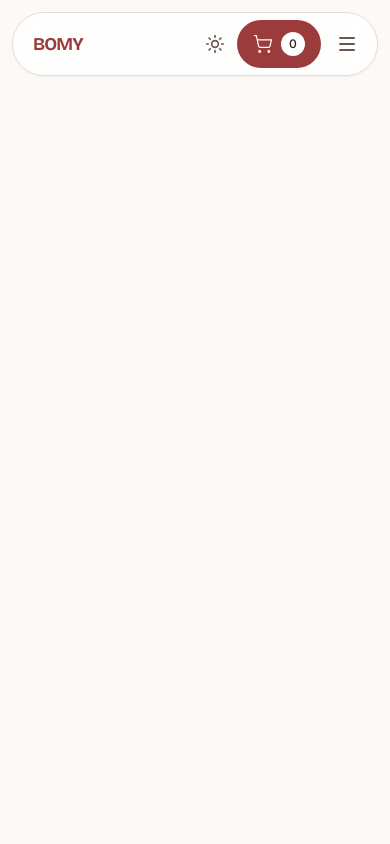
Scenario: names, tags and destinations › signed out: the opened mobile panel has the account link
Click the button named "Open menu" at (347, 44), box [325,22,369,66]
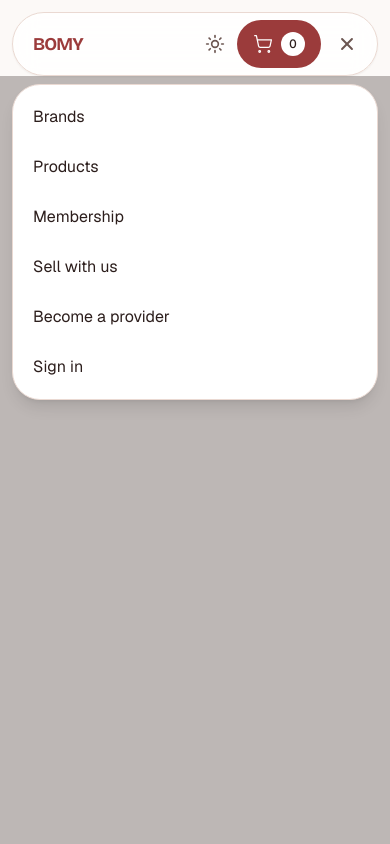
Expected: the link "Sign in" is shown, [33,356,83,377]
